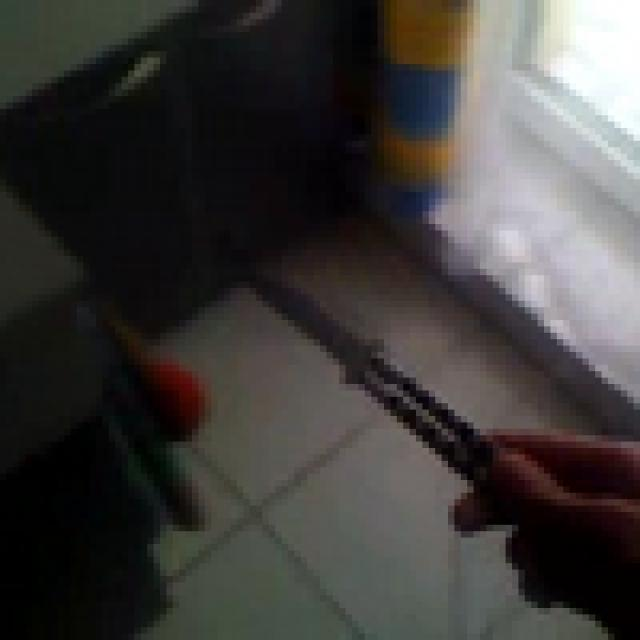Weapons: (219, 243, 504, 496)
